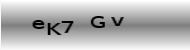7: (60, 19, 74, 34)
G: (89, 15, 106, 28)
K: (46, 21, 62, 36)
e: (31, 19, 45, 30)
v: (110, 16, 124, 27)
